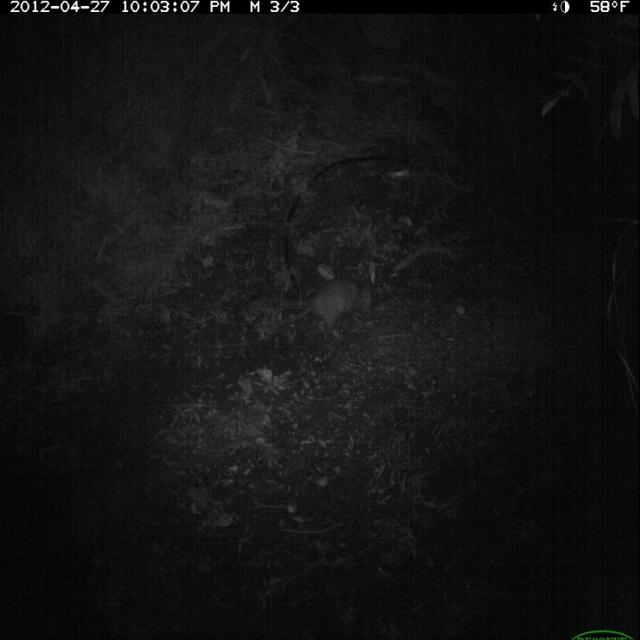opossum: (296, 275, 378, 340)
